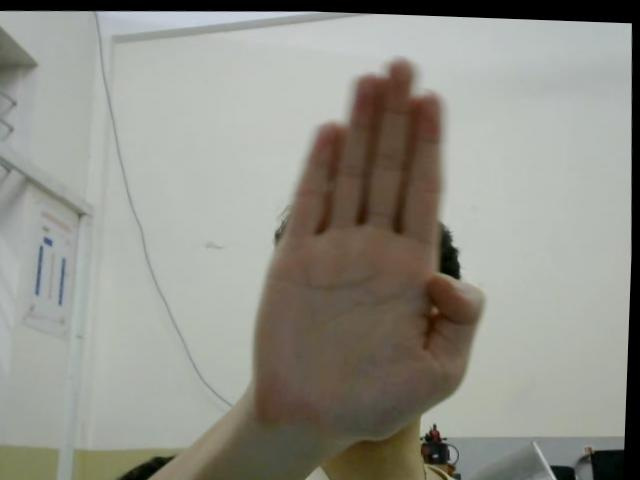B: (241, 44, 497, 444)
